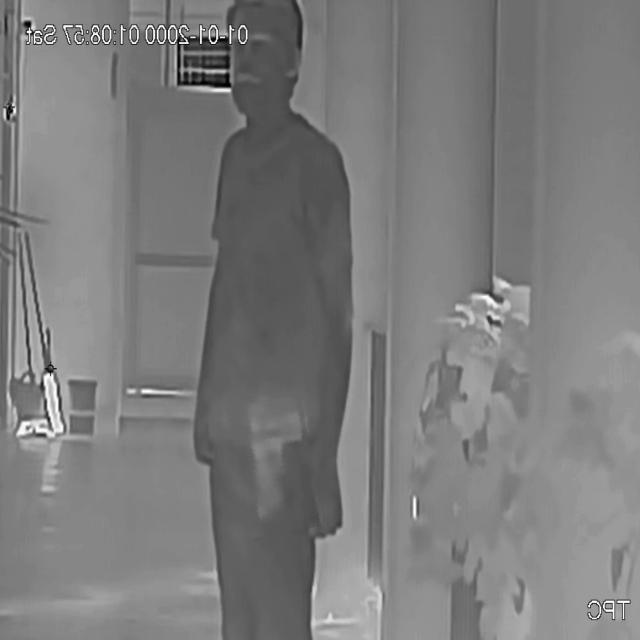Weapon: (231, 397, 318, 537)
